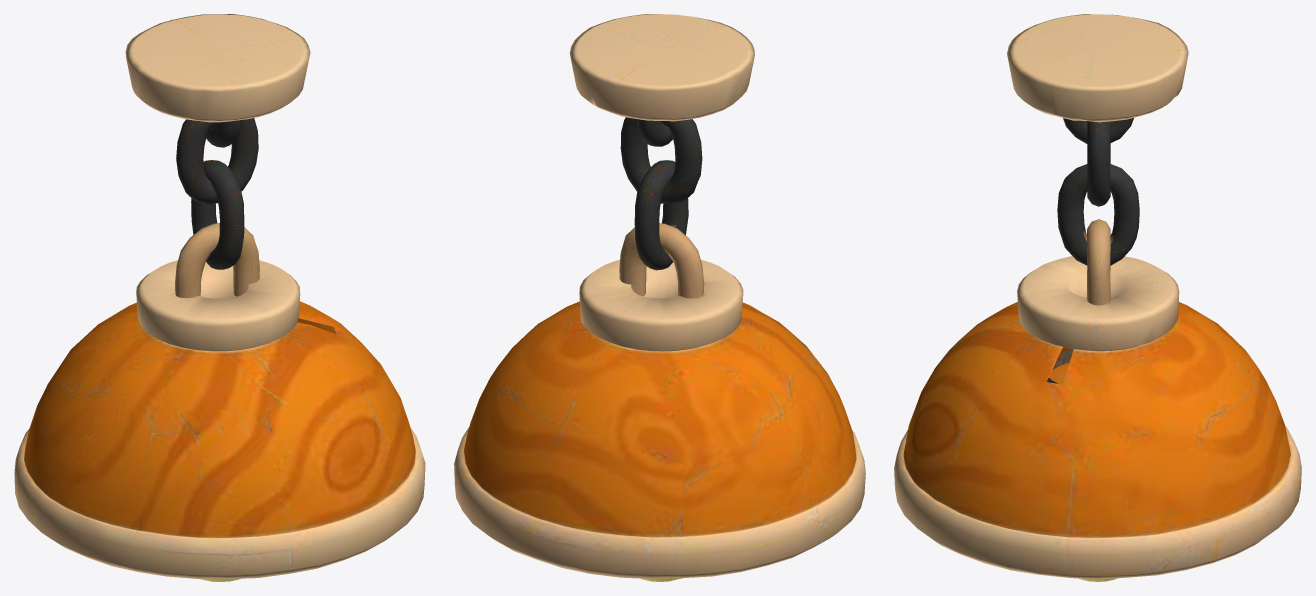
File: pendant.glb
The picture shows the model from 3 angles, left to right: view 1: azimuth 30°, elevation 25°; view 2: azimuth 150°, elevation 25°; view 3: azimuth 270°, elevation 25°; orthographic projection.
Size of the model in its own units: 0.7116 by 1 by 0.7057.
Materials: 1 (1 with a texture image).
